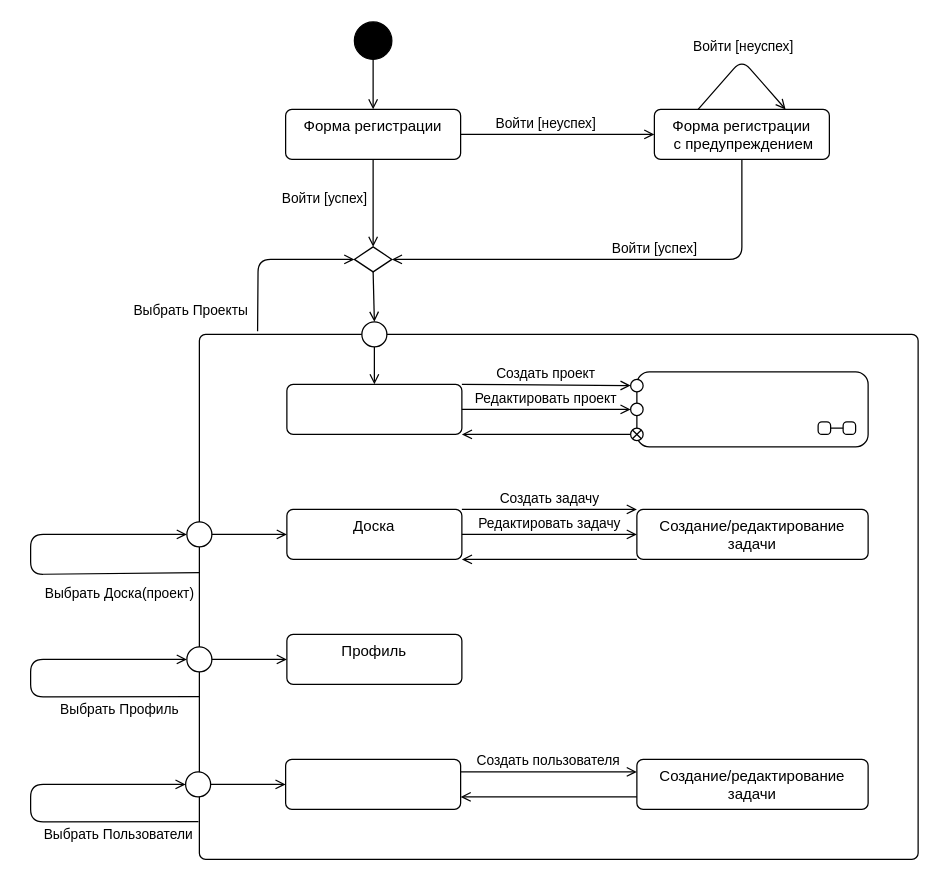
Image size: 940x881. Some labels were removed from this diagram. Here are the shapes that lost their labels. From the top down, the box of each, then its label:
(286, 383, 462, 434): Проекты
(636, 371, 868, 447): :Создание/редактирование проекта
(284, 758, 461, 809): Пользователи
